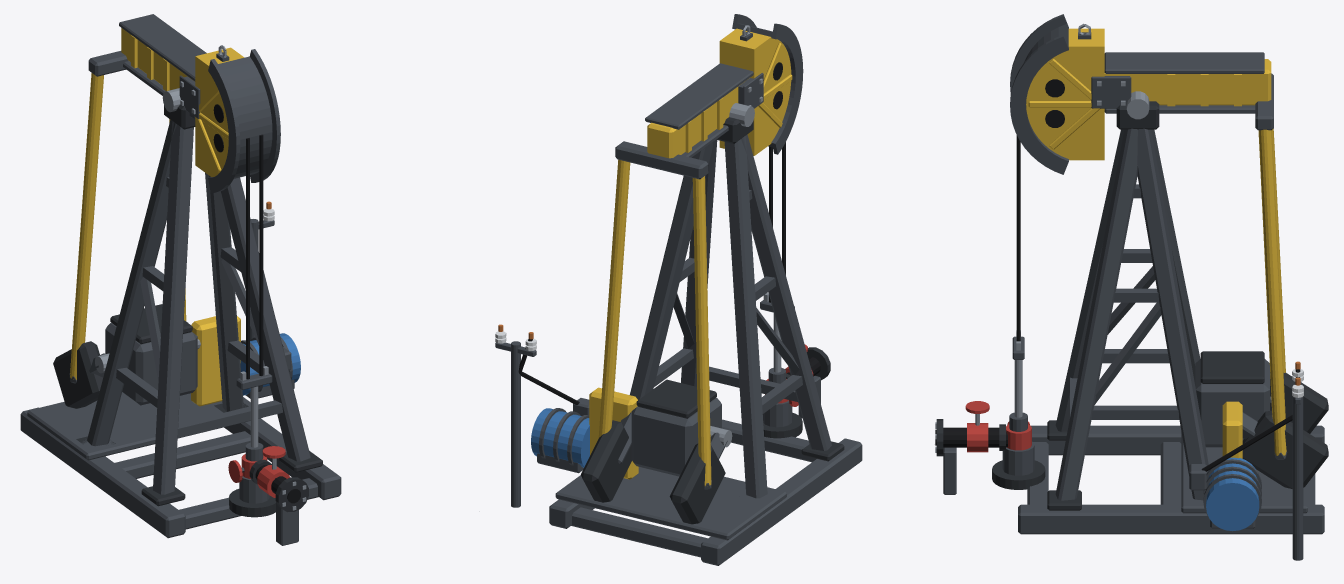
File: chevalet_t2.glb
3 renders of one model, left to right at view 1: azimuth 30°, elevation 25°; view 2: azimuth 150°, elevation 25°; view 3: azimuth 270°, elevation 25°, orthographic. The views are drawn at different scales.
Visible parts, largest first — view 1: pieces_acier_sombre.008, balancier_acier_sombre.002, platine.002, bielle_jaune.002, balancier_tete.002, reducteur.002, balancier_chapeau.002, tige_noir.002, carter.002, manivelle_fonte.002, balancier_jaune.002, pieces_fonte.007 (+8 smaller); view 2: pieces_acier_sombre.008, bielle_jaune.002, platine.002, manivelle_fonte.002, reducteur.002, balancier_tete.002, balancier_acier_sombre.002, balancier_chapeau.002, moteur.004, balancier_poutre.002, reducteur_capot.002, balancier_palonnier.002 (+8 smaller); view 3: pieces_acier_sombre.008, balancier_tete.002, balancier_acier_sombre.002, bielle_jaune.002, manivelle_fonte.002, balancier_poutre.002, balancier_chapeau.002, reducteur.002, moteur.004, platine.002, reducteur_capot.002, balancier_jaune.002 (+14 smaller).
Boxes of the visible parts, x1=… form: pieces_acier_sombre.008: x1=20, y1=120, x2=341, y2=545; balancier_acier_sombre.002: x1=179, y1=49, x2=280, y2=192; platine.002: x1=27, y1=392, x2=262, y2=460; bielle_jaune.002: x1=70, y1=73, x2=186, y2=379; balancier_tete.002: x1=195, y1=47, x2=244, y2=176; reducteur.002: x1=105, y1=322, x2=197, y2=405; balancier_chapeau.002: x1=119, y1=14, x2=206, y2=81; tige_noir.002: x1=246, y1=134, x2=263, y2=379; carter.002: x1=191, y1=316, x2=240, y2=406; manivelle_fonte.002: x1=53, y1=321, x2=187, y2=408; balancier_jaune.002: x1=131, y1=35, x2=228, y2=172; pieces_fonte.007: x1=76, y1=403, x2=322, y2=506; pieces_acier_sombre.008: x1=495, y1=134, x2=862, y2=565; bielle_jaune.002: x1=598, y1=159, x2=711, y2=485; platine.002: x1=555, y1=467, x2=786, y2=540; manivelle_fonte.002: x1=581, y1=420, x2=725, y2=524; reducteur.002: x1=631, y1=398, x2=721, y2=476; balancier_tete.002: x1=719, y1=28, x2=791, y2=155; balancier_acier_sombre.002: x1=732, y1=14, x2=803, y2=154; balancier_chapeau.002: x1=645, y1=63, x2=753, y2=129; moteur.004: x1=531, y1=408, x2=589, y2=467; balancier_poutre.002: x1=647, y1=78, x2=749, y2=158; reducteur_capot.002: x1=636, y1=379, x2=716, y2=418; balancier_palonnier.002: x1=615, y1=141, x2=708, y2=179; pieces_acier_sombre.008: x1=943, y1=128, x2=1324, y2=560; balancier_tete.002: x1=1026, y1=28, x2=1104, y2=160; balancier_acier_sombre.002: x1=1010, y1=14, x2=1131, y2=174; bielle_jaune.002: x1=1258, y1=129, x2=1286, y2=455; manivelle_fonte.002: x1=1242, y1=372, x2=1328, y2=488; balancier_poutre.002: x1=1104, y1=59, x2=1271, y2=105; balancier_chapeau.002: x1=1104, y1=52, x2=1264, y2=73; reducteur.002: x1=1195, y1=359, x2=1269, y2=447; moteur.004: x1=1206, y1=457, x2=1259, y2=531; platine.002: x1=1181, y1=432, x2=1307, y2=513; reducteur_capot.002: x1=1200, y1=351, x2=1264, y2=383; balancier_jaune.002: x1=1028, y1=59, x2=1241, y2=149.
Size of the model in its own units: 1.5 by 2.61 by 2.
